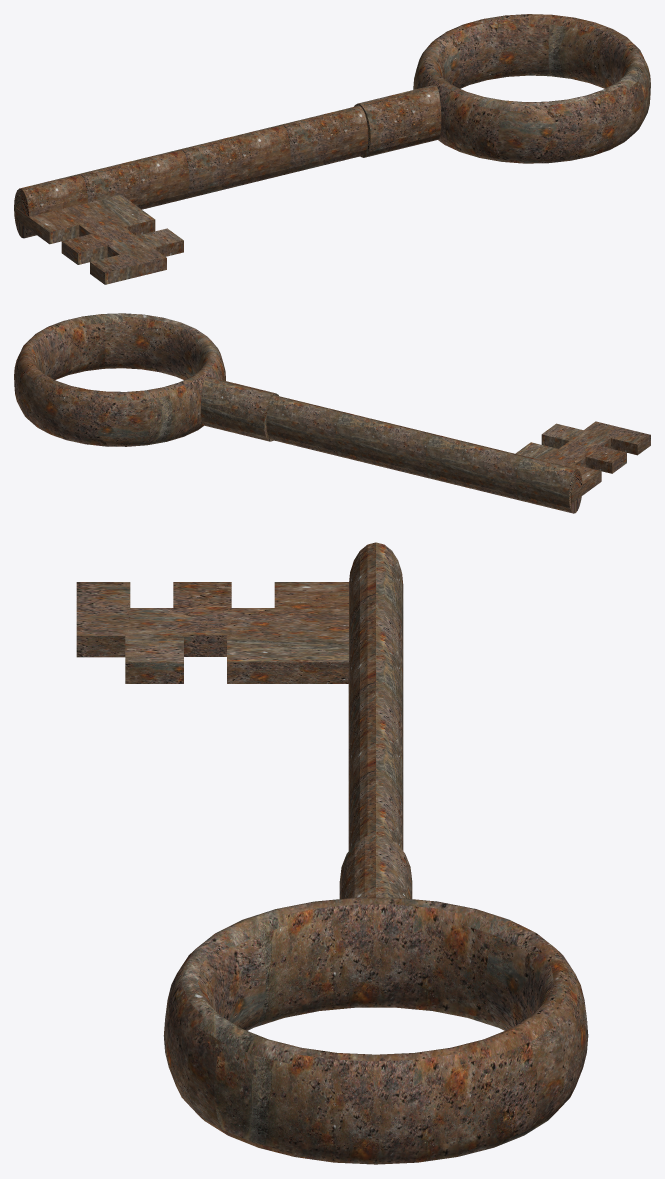
File: Key.FBX
3 renders of one model, top to bottom at view 1: azimuth 30°, elevation 25°; view 2: azimuth 150°, elevation 25°; view 3: azimuth 270°, elevation 25°, orthographic. The views are drawn at different scales.
Parts seen in each view (by area): view 1: pTorus2, Object001, Object003, Object002; view 2: pTorus2, Object001, Object003, Object002; view 3: pTorus2, Object003, Object001, Object002.
Part boxes in pixels (box(x1,y1,x2,y2)): pTorus2: box(413, 14, 650, 163); Object001: box(14, 106, 368, 238); Object003: box(16, 194, 183, 284); Object002: box(354, 85, 441, 157); pTorus2: box(14, 313, 225, 446); Object001: box(266, 395, 582, 513); Object003: box(515, 421, 650, 503); Object002: box(201, 377, 278, 441); pTorus2: box(163, 897, 588, 1164); Object003: box(76, 582, 348, 683); Object001: box(348, 542, 403, 850); Object002: box(339, 834, 412, 898).
Size of the model in its own units: 3.24 by 1.31 by 0.3054.
1 material, 1 textured.
